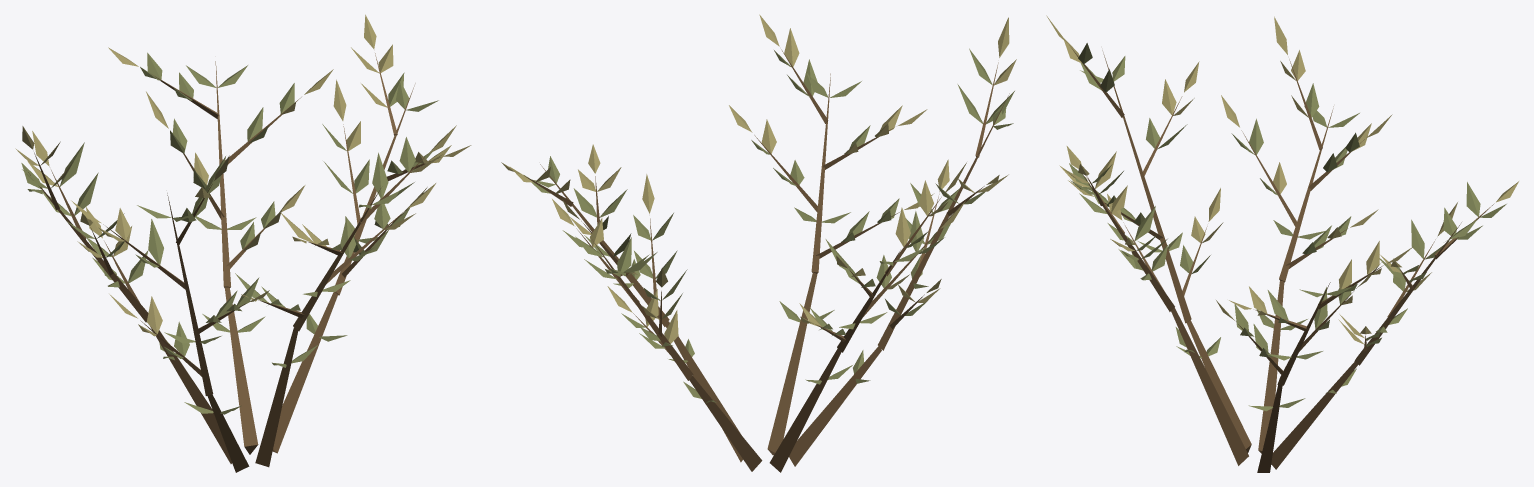
Rendered from bush-0-levels.glb.
The picture shows the model from 3 angles, left to right: view 1: azimuth 30°, elevation 25°; view 2: azimuth 150°, elevation 25°; view 3: azimuth 270°, elevation 25°; orthographic projection. The views are drawn at different scales.
Parts seen in each view (by area): view 1: bush-0-lod0-mesh; view 2: bush-0-lod0-mesh; view 3: bush-0-lod0-mesh.
Boxes of the visible parts, left/top/right/bottom form: bush-0-lod0-mesh: left=15, top=14, right=471, bottom=472; bush-0-lod0-mesh: left=501, top=14, right=1016, bottom=472; bush-0-lod0-mesh: left=1046, top=15, right=1518, bottom=472.
Size of what is drawn, in the model's own units: 2.53 by 2.4 by 2.64.
